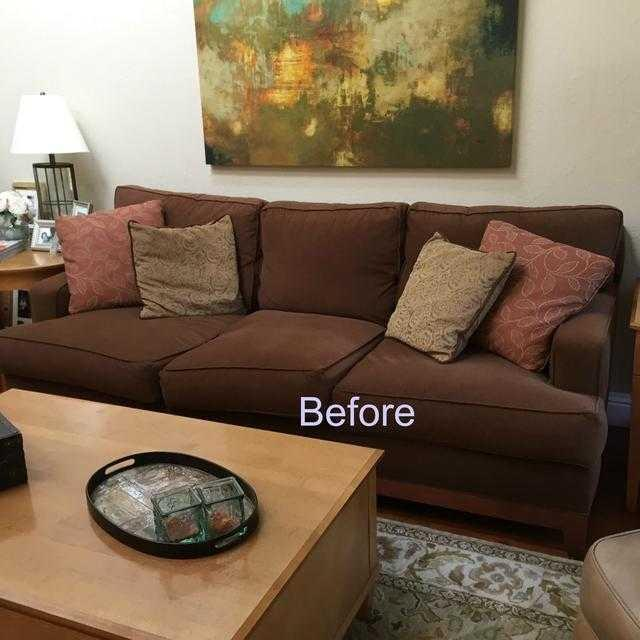pillow: (473, 218, 615, 370), (384, 230, 516, 362), (58, 192, 174, 310), (132, 208, 254, 320)
